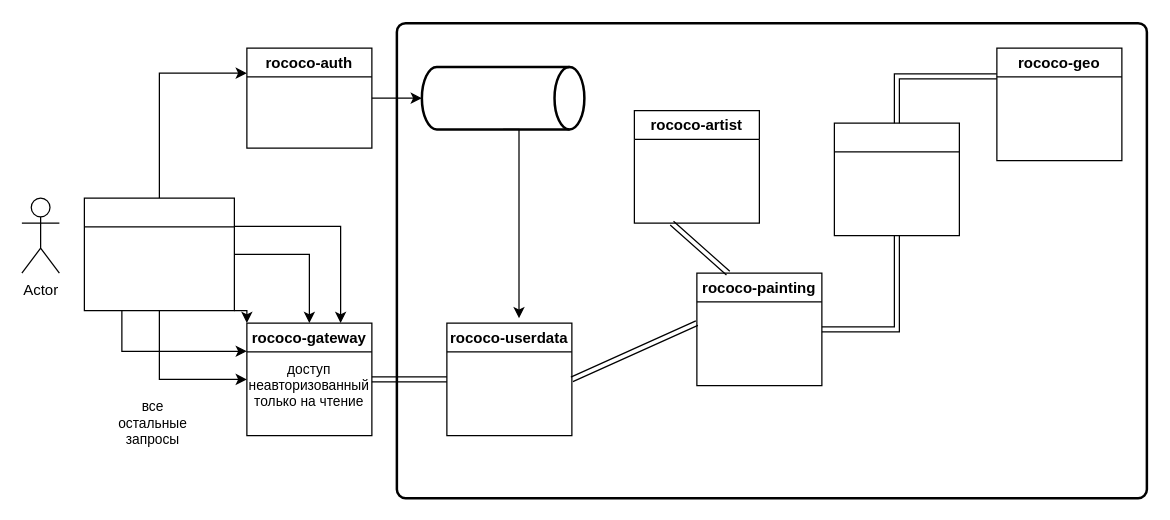
The diagram is 1170 pixels wide and 520 high, and some of its shapes have lost their labels. The centre of each missing label's shape, as x and y in pixels:
"Kafka" belongs at [502,97].
"rococo-client" belongs at [158,254].
"rococo-museum" belongs at [896,179].
